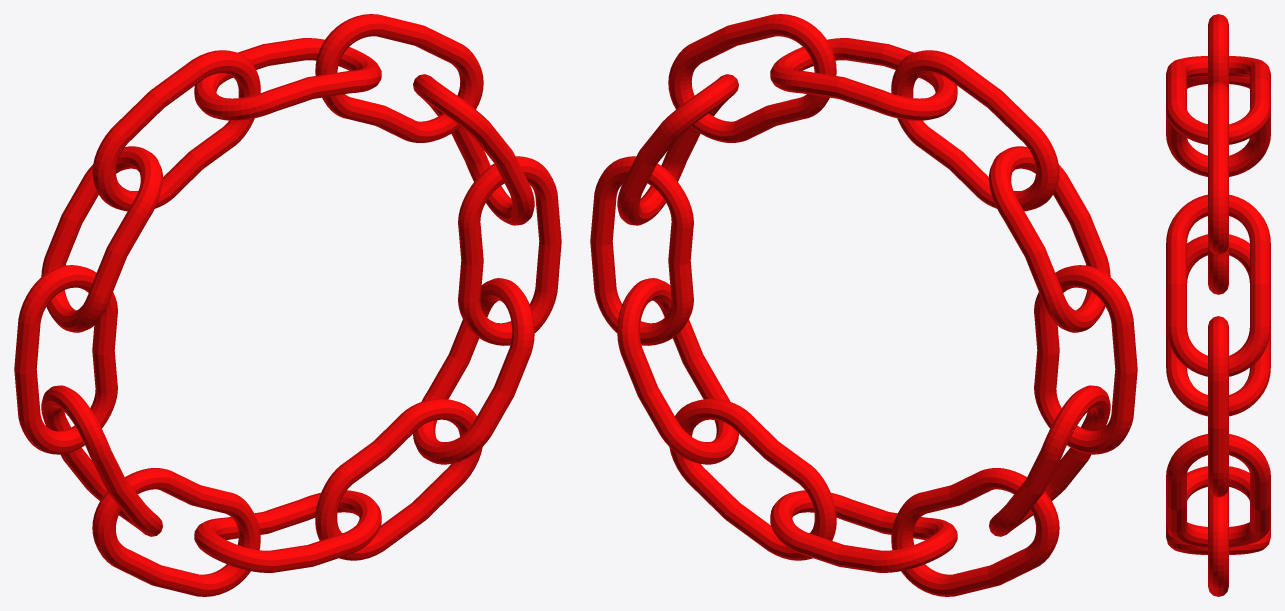
The model's file is Chain_model.fbx.
3 views of the same model, side by side, from view 1: azimuth 30°, elevation 25°; view 2: azimuth 150°, elevation 25°; view 3: azimuth 270°, elevation 25° (orthographic). The views are drawn at different scales.
Visible parts, largest first — view 1: Chain; view 2: Chain; view 3: Chain.
Part boxes in pixels (<box>): Chain: <box>14,14,561,596</box>; Chain: <box>590,14,1137,596</box>; Chain: <box>1166,14,1270,596</box>.
Size of the model in its own units: 1.75 by 1.66 by 0.3125.
